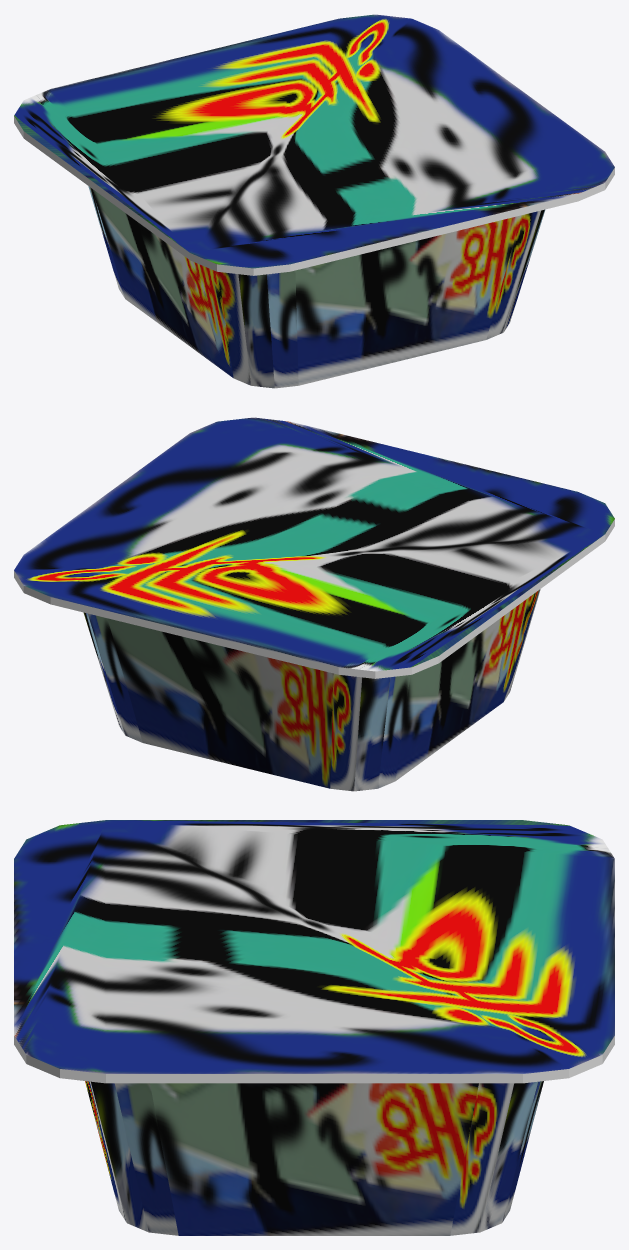
File: why__model.fbx
3 renders of one model, top to bottom at view 1: azimuth 30°, elevation 25°; view 2: azimuth 150°, elevation 25°; view 3: azimuth 270°, elevation 25°, orthographic. The views are drawn at different scales.
Visible parts, largest first — view 1: Plane; view 2: Plane; view 3: Plane.
Boxes of the visible parts, left/top/right/bottom form: Plane: left=14, top=14, right=614, bottom=388; Plane: left=14, top=417, right=614, bottom=791; Plane: left=14, top=820, right=614, bottom=1235.
Bounding box in the file's own units: 200 × 75.68 × 200.
